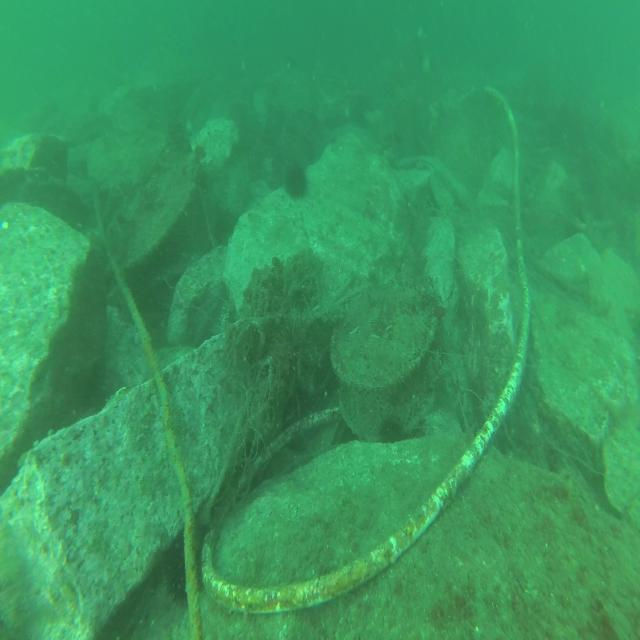echinus: (282, 161, 310, 202)
